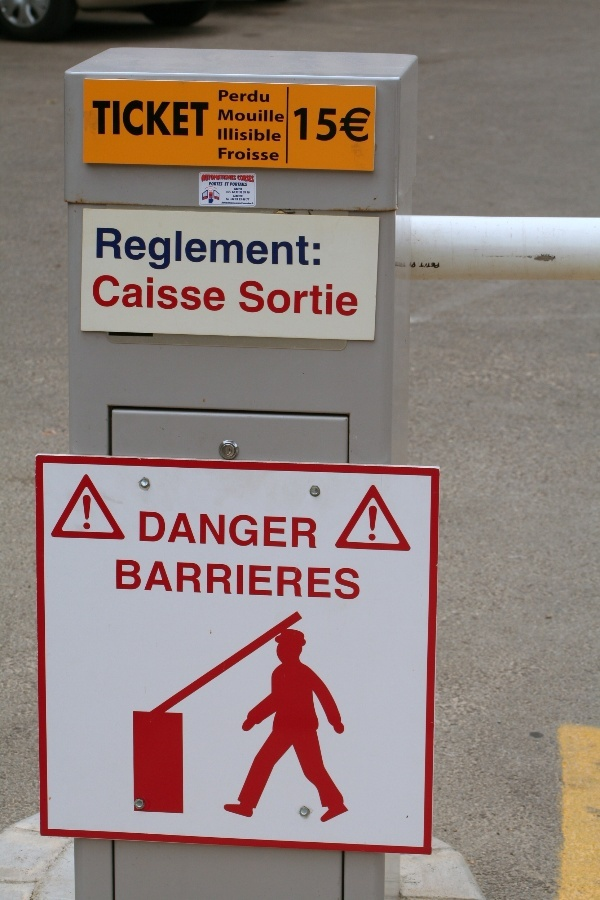text: (97, 227, 112, 276), (113, 227, 128, 276), (129, 227, 144, 276), (145, 227, 160, 276), (161, 227, 176, 276), (177, 227, 192, 276), (193, 227, 208, 276), (209, 227, 224, 276), (225, 227, 240, 276), (241, 227, 256, 276), (257, 227, 272, 276), (273, 227, 288, 276), (289, 227, 304, 276), (305, 227, 320, 276), (129, 559, 144, 601), (145, 559, 160, 601), (161, 559, 176, 601), (177, 559, 192, 601), (193, 559, 208, 601), (209, 559, 224, 601), (225, 559, 240, 601), (241, 559, 256, 601), (257, 559, 272, 601), (273, 559, 288, 601), (289, 559, 304, 601), (305, 559, 320, 601), (321, 559, 336, 601), (337, 559, 352, 601), (305, 105, 320, 143), (321, 105, 336, 143), (337, 105, 352, 143), (353, 105, 368, 143), (97, 99, 112, 137), (113, 99, 128, 137), (129, 99, 144, 137), (145, 99, 160, 137), (161, 99, 176, 137), (177, 99, 192, 137), (193, 99, 208, 137), (97, 274, 112, 312), (113, 274, 128, 312), (129, 274, 144, 312), (145, 274, 160, 312), (161, 274, 176, 312), (177, 274, 192, 312), (193, 274, 208, 312), (209, 274, 224, 312), (241, 279, 256, 317), (257, 279, 272, 317), (273, 279, 288, 317), (289, 279, 304, 317), (305, 279, 320, 317), (321, 279, 336, 317), (337, 279, 352, 317), (145, 511, 160, 549), (161, 511, 176, 549), (177, 511, 192, 549), (193, 511, 208, 549), (209, 511, 224, 549), (225, 511, 240, 549), (241, 511, 256, 549), (257, 511, 272, 549), (273, 511, 288, 549), (289, 511, 304, 549), (116, 559, 128, 601), (305, 511, 317, 549), (293, 105, 304, 143), (353, 559, 361, 601), (353, 279, 360, 317), (225, 109, 240, 123), (241, 109, 256, 123), (257, 109, 272, 123), (225, 128, 240, 142), (241, 128, 256, 142), (257, 128, 272, 142), (225, 148, 240, 161), (241, 148, 256, 161), (257, 148, 272, 161), (225, 90, 240, 103), (241, 90, 256, 103), (257, 90, 271, 103), (273, 109, 285, 123), (92, 99, 96, 137), (92, 274, 96, 312), (140, 511, 144, 549), (273, 128, 282, 142), (369, 105, 372, 143), (209, 175, 224, 182), (241, 175, 254, 183), (273, 148, 280, 161), (218, 128, 224, 142), (419, 262, 432, 268), (225, 175, 236, 182), (225, 274, 227, 312), (219, 109, 224, 123), (219, 148, 224, 161), (219, 90, 224, 103), (209, 182, 224, 186), (225, 183, 240, 186), (225, 202, 240, 205), (202, 175, 208, 182), (226, 198, 240, 201), (433, 262, 440, 268), (230, 183, 240, 187), (227, 191, 240, 194), (243, 198, 256, 201), (241, 202, 254, 205), (209, 99, 210, 137), (244, 191, 256, 194), (230, 198, 240, 201), (247, 191, 256, 194), (247, 198, 256, 201), (237, 175, 240, 183), (241, 183, 247, 187), (232, 191, 240, 194), (232, 198, 240, 201), (412, 262, 416, 268), (233, 195, 240, 198), (236, 191, 240, 194), (236, 198, 240, 201), (235, 188, 240, 190), (231, 192, 240, 193), (241, 195, 244, 198), (222, 202, 224, 205), (241, 188, 243, 190), (241, 191, 242, 194), (241, 198, 242, 201)
